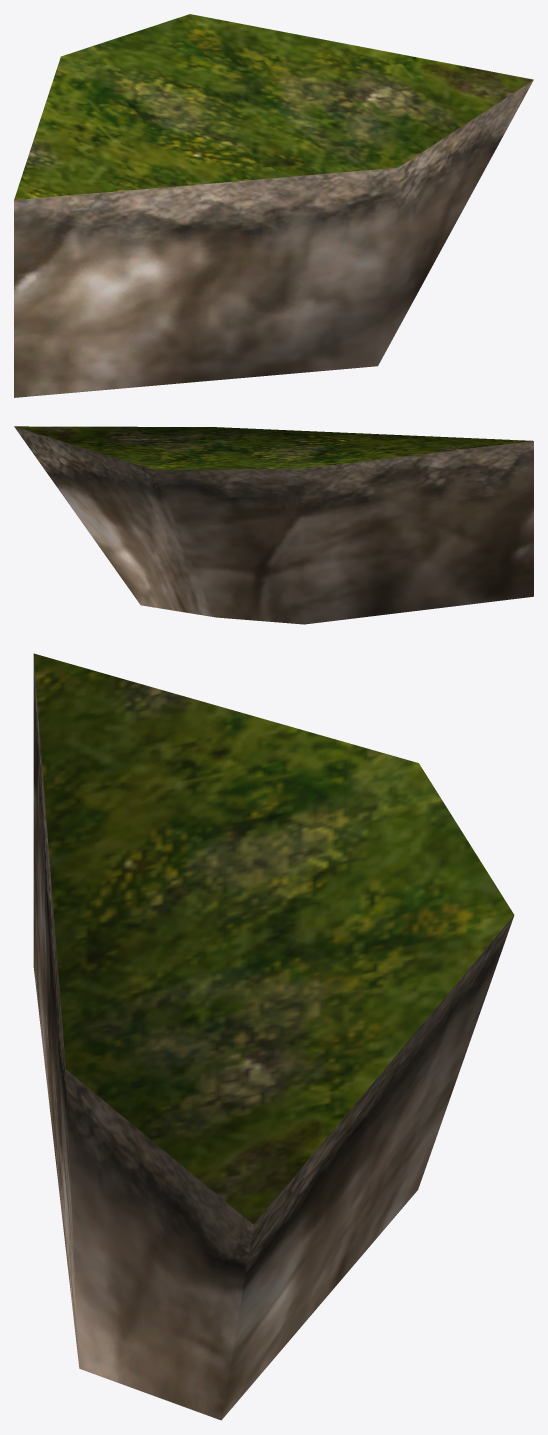
File: ANIMATEDINSTANCES_OH_ROCKFALL_202__AI.fbx
3 renders of one model, top to bottom at view 1: azimuth 30°, elevation 25°; view 2: azimuth 150°, elevation 25°; view 3: azimuth 270°, elevation 25°, orthographic. The views are drawn at different scales.
Visible parts, largest first — view 1: ANIMATEDINSTANCES_OH_ROCKFALL_202__AI; view 2: ANIMATEDINSTANCES_OH_ROCKFALL_202__AI; view 3: ANIMATEDINSTANCES_OH_ROCKFALL_202__AI.
Part boxes in pixels (bbox=[...]): ANIMATEDINSTANCES_OH_ROCKFALL_202__AI: bbox=[14, 14, 533, 397]; ANIMATEDINSTANCES_OH_ROCKFALL_202__AI: bbox=[14, 426, 533, 624]; ANIMATEDINSTANCES_OH_ROCKFALL_202__AI: bbox=[33, 653, 514, 1420].
Size of the model in its own units: 16234 by 7499 by 7272.
Materials: 2 (2 with a texture image).
